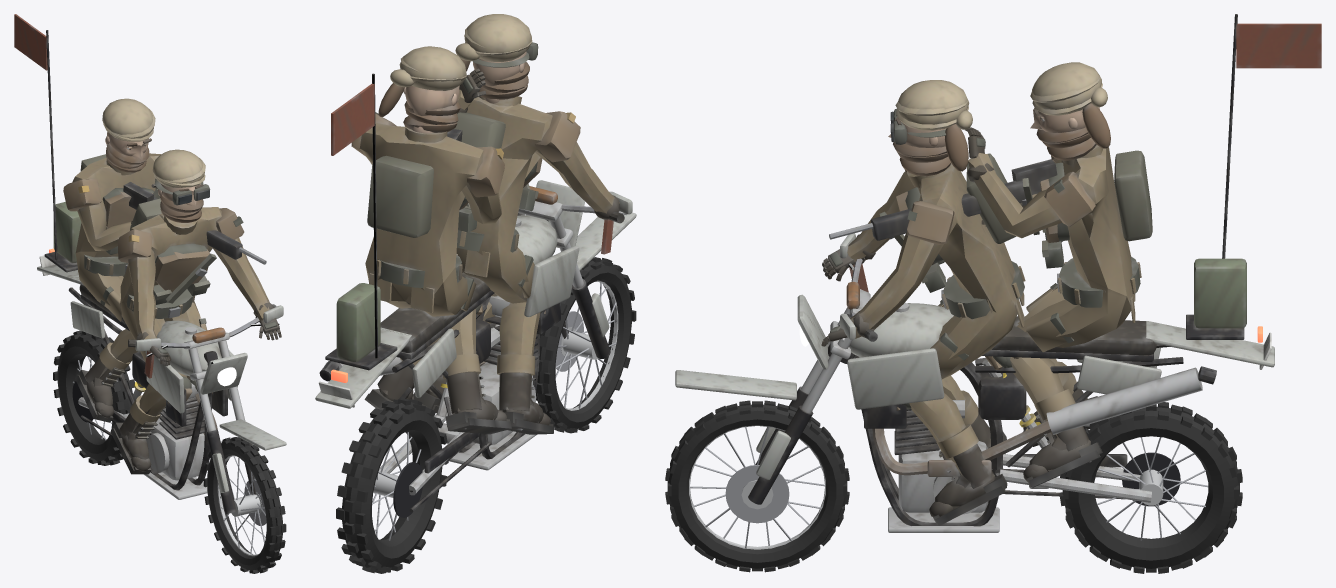
The model's file is bike.glb.
3 renders of one model, left to right at view 1: azimuth 30°, elevation 25°; view 2: azimuth 150°, elevation 25°; view 3: azimuth 270°, elevation 25°, orthographic. The views are drawn at different scales.
Parts seen in each view (by area): view 1: Hull, Turret, WheelF, WheelR; view 2: Hull, Turret, WheelR, WheelF; view 3: Hull, Turret, WheelR, WheelF.
Part boxes in pixels (<box>): Hull: <box>14,14,286,514</box>; Turret: <box>63,98,266,276</box>; WheelF: <box>203,437,286,573</box>; WheelR: <box>53,330,134,465</box>; Hull: <box>315,14,636,512</box>; Turret: <box>351,46,504,312</box>; WheelR: <box>336,398,448,573</box>; WheelF: <box>536,257,636,433</box>; Hull: <box>675,14,1321,532</box>; Turret: <box>829,62,1152,323</box>; WheelR: <box>1059,402,1242,573</box>; WheelF: <box>665,400,849,572</box>.
Bounding box in the file's own units: 0.8551 × 2.26 × 2.47.
62 materials, 58 textured.
